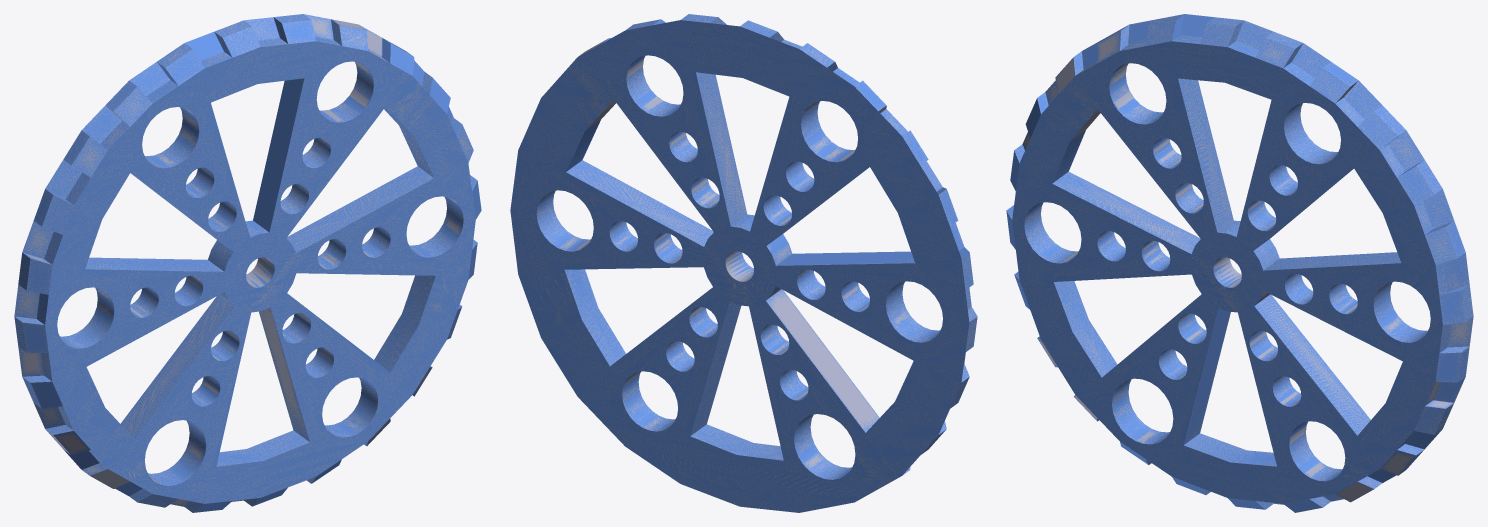
File: gear.fbx
The picture shows the model from 3 angles, left to right: view 1: azimuth 30°, elevation 25°; view 2: azimuth 150°, elevation 25°; view 3: azimuth 330°, elevation 25°; orthographic projection.
Visible parts, largest first — view 1: G_9id24t025b916th_miter_gear1; view 2: G_9id24t025b916th_miter_gear1; view 3: G_9id24t025b916th_miter_gear1.
Part boxes in pixels (<box>): G_9id24t025b916th_miter_gear1: <box>14,14,481,512</box>; G_9id24t025b916th_miter_gear1: <box>510,14,977,512</box>; G_9id24t025b916th_miter_gear1: <box>1006,14,1473,512</box>.
Size of the model in its own units: 9 by 9 by 0.5622.
